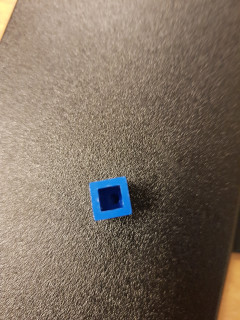1x1 blue: (86, 173, 135, 224)
